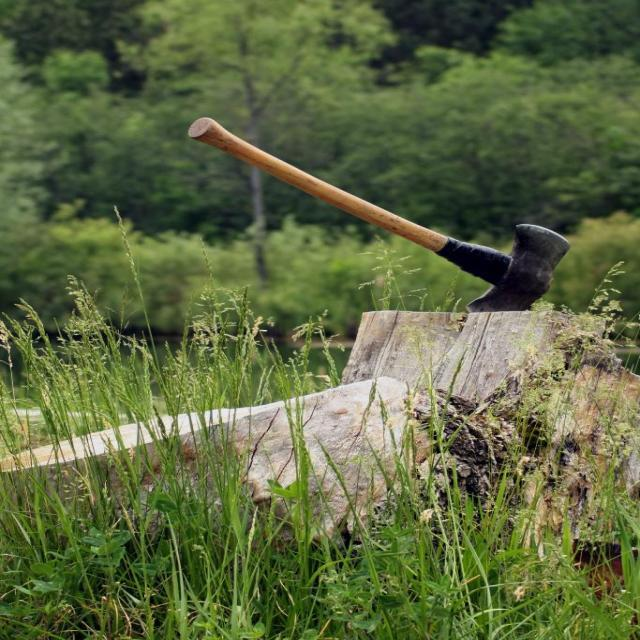Axe: (189, 118, 569, 312)
